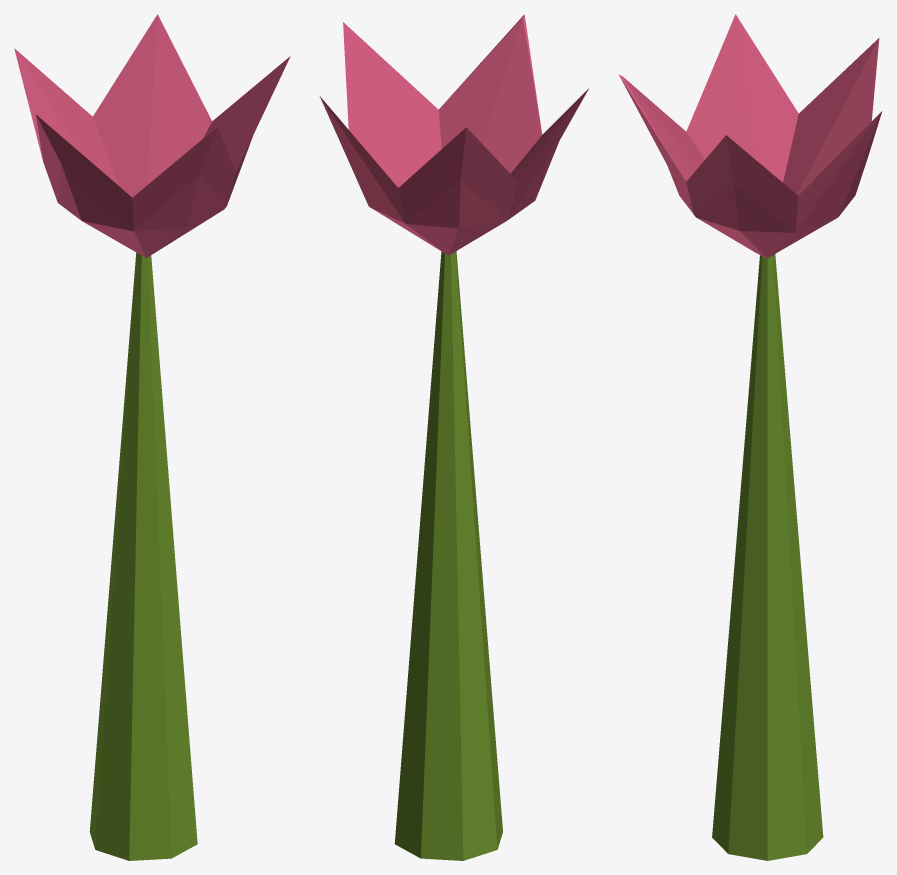
The model's file is flor1.obj.
3 views of the same model, side by side, from view 1: azimuth 30°, elevation 25°; view 2: azimuth 150°, elevation 25°; view 3: azimuth 270°, elevation 25° (orthographic).
Visible parts, largest first — view 1: Cylinder.006; view 2: Cylinder.006; view 3: Cylinder.006.
Boxes of the visible parts, x1,y1,x2,y2 form: Cylinder.006: (14,14,290,860); Cylinder.006: (319,14,588,860); Cylinder.006: (618,14,882,860).
Bounding box in the file's own units: 0.5228 × 1.53 × 0.4792.
